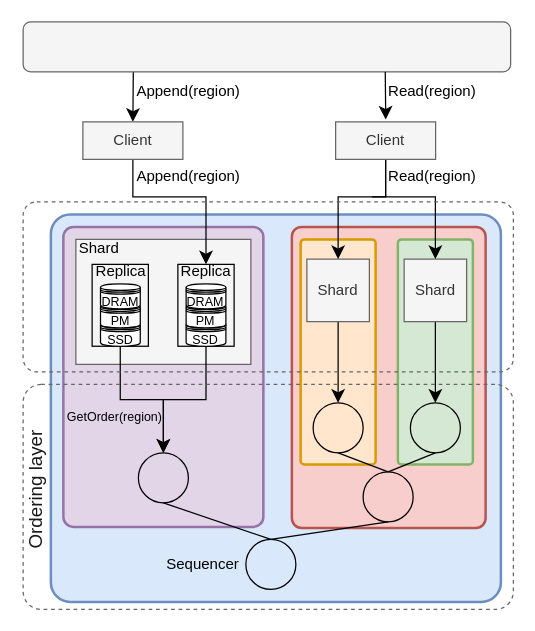
This 535x631 diagram has some shape labels left out. Here are the shapes that lost their labels. From the top down, the centre of each, then its label:
At pixel 266 46: "Distributed application".
At pixel 267 286: "Data layer".
